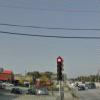Traffic light: (51, 52, 66, 86)
